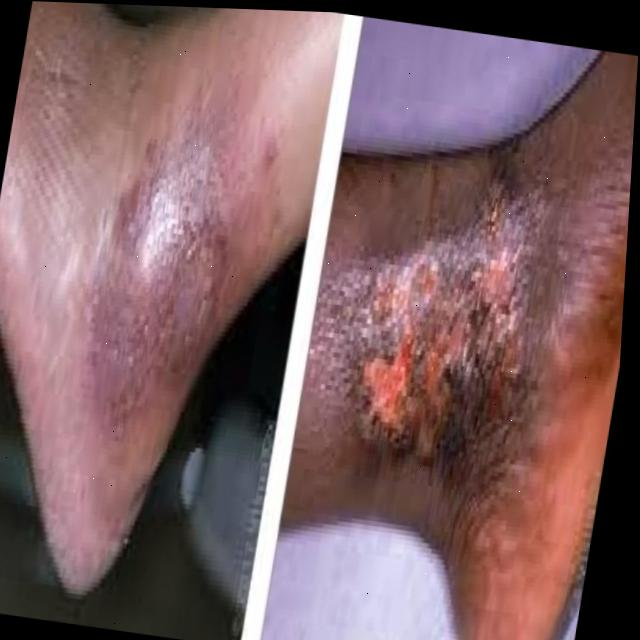Eczema: (299, 167, 556, 490), (82, 110, 271, 449)
